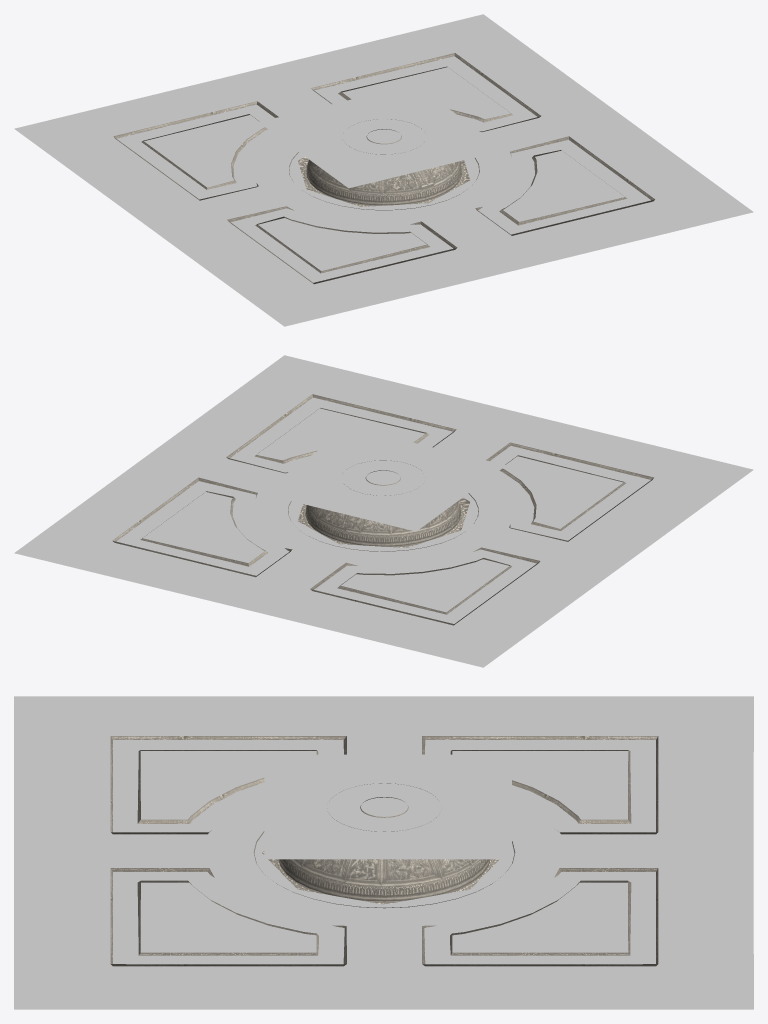
Rendered from CeilingDOME.fbx.
The picture shows the model from 3 angles, top to bottom: view 1: azimuth 30°, elevation 25°; view 2: azimuth 150°, elevation 25°; view 3: azimuth 270°, elevation 25°; orthographic projection. The views are drawn at different scales.
Visible parts, largest first — view 1: Plane; view 2: Plane; view 3: Plane.
Boxes of the visible parts, box(x1,y1,x2,y2) form: Plane: box(14, 14, 753, 326); Plane: box(14, 355, 753, 667); Plane: box(14, 696, 753, 1009).
Bounding box in the file's own units: 1861 × 150 × 1857.
